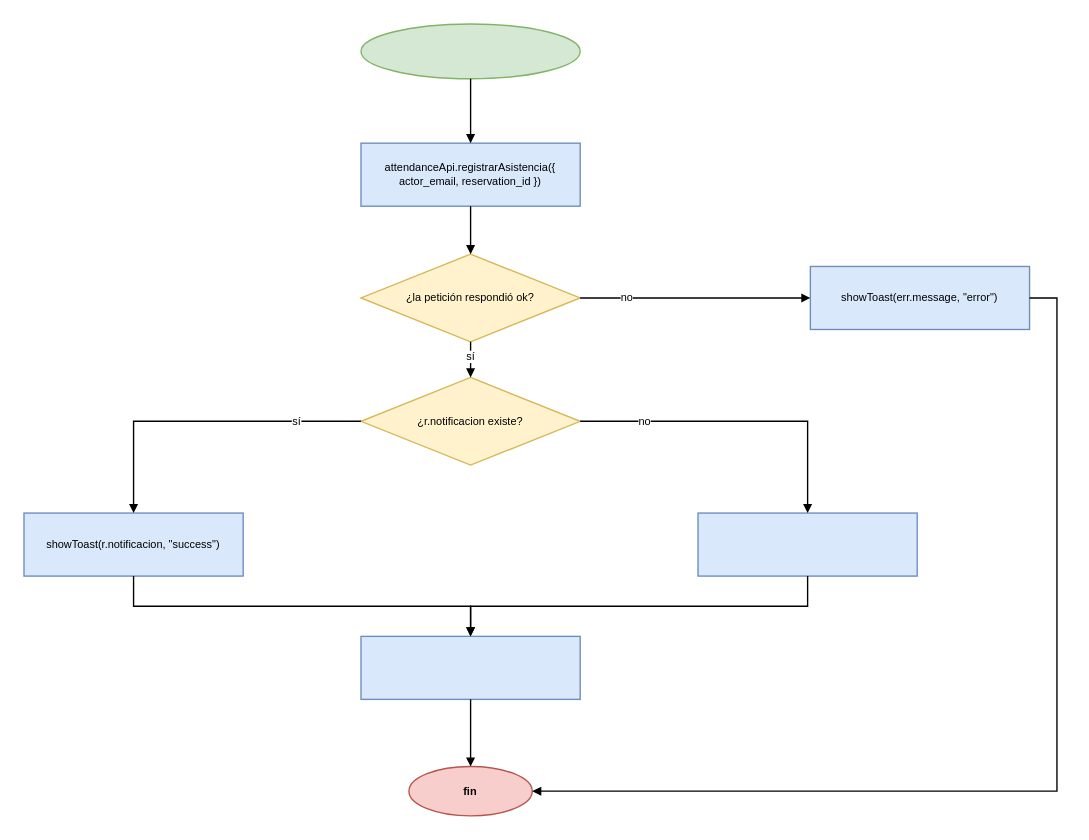
Some shapes in this 1089 by 840 pixel diagram are drawn without their labels. The centre of each missing label's shape, as x and y in pixels:
inicio: clic en "Registrar asistencia" o "Asistió": (x=470, y=51)
setBusqueda(null), setDocumento(""), onChanged() y refrescar(): (x=470, y=667)
showToast("Asistencia registrada.", "success"): (x=807, y=544)
